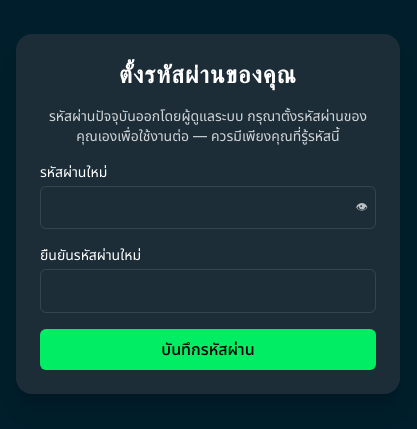
Test: ChangePasswordPage network failure › releases the submit button when the request never lands
Check: the heading "ตั้งรหัสผ่านของคุณ" is shown, box [119, 59, 297, 89]
In the password field labelled "รหัสผ่านใหม่": (208, 207) [40, 186, 376, 229], type "BrandNewPass1"
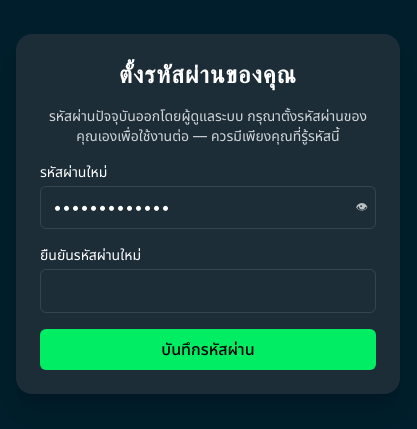
In the password field labelled "ยืนยันรหัสผ่านใหม่": (208, 291) [40, 269, 376, 313], type "BrandNewPass1"
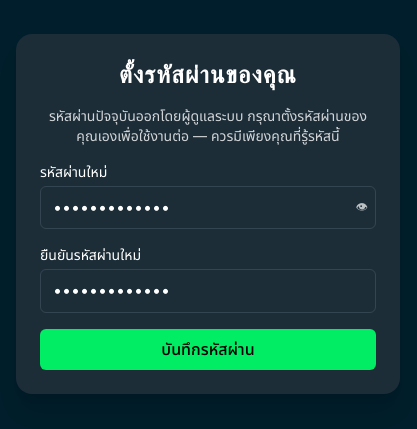
Click the button "บันทึกรหัสผ่าน": (208, 350) [40, 329, 376, 370]
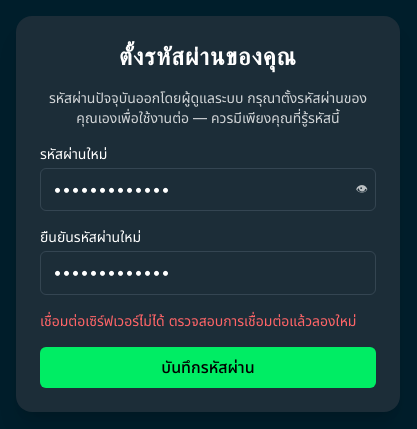
Check: the button "บันทึกรหัสผ่าน" is enabled, box [40, 347, 376, 388]
Check: the message shows "เชื่อมต่อเซิร์ฟเวอร์ไม่ได้", box [40, 312, 356, 329]
